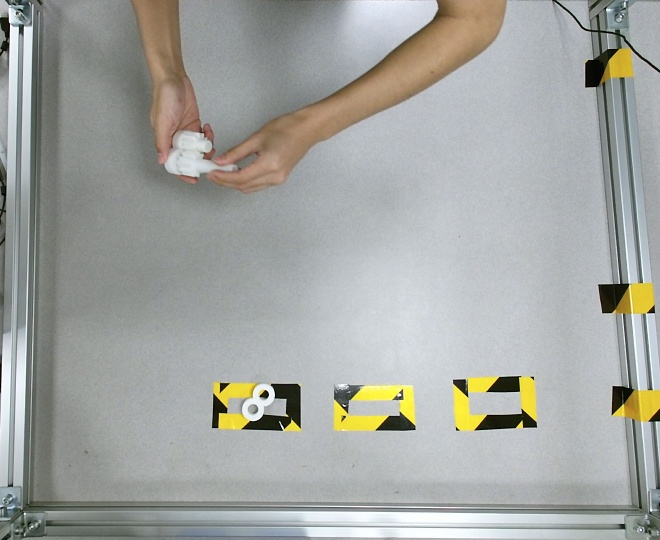stage_3: (165, 131, 238, 177)
